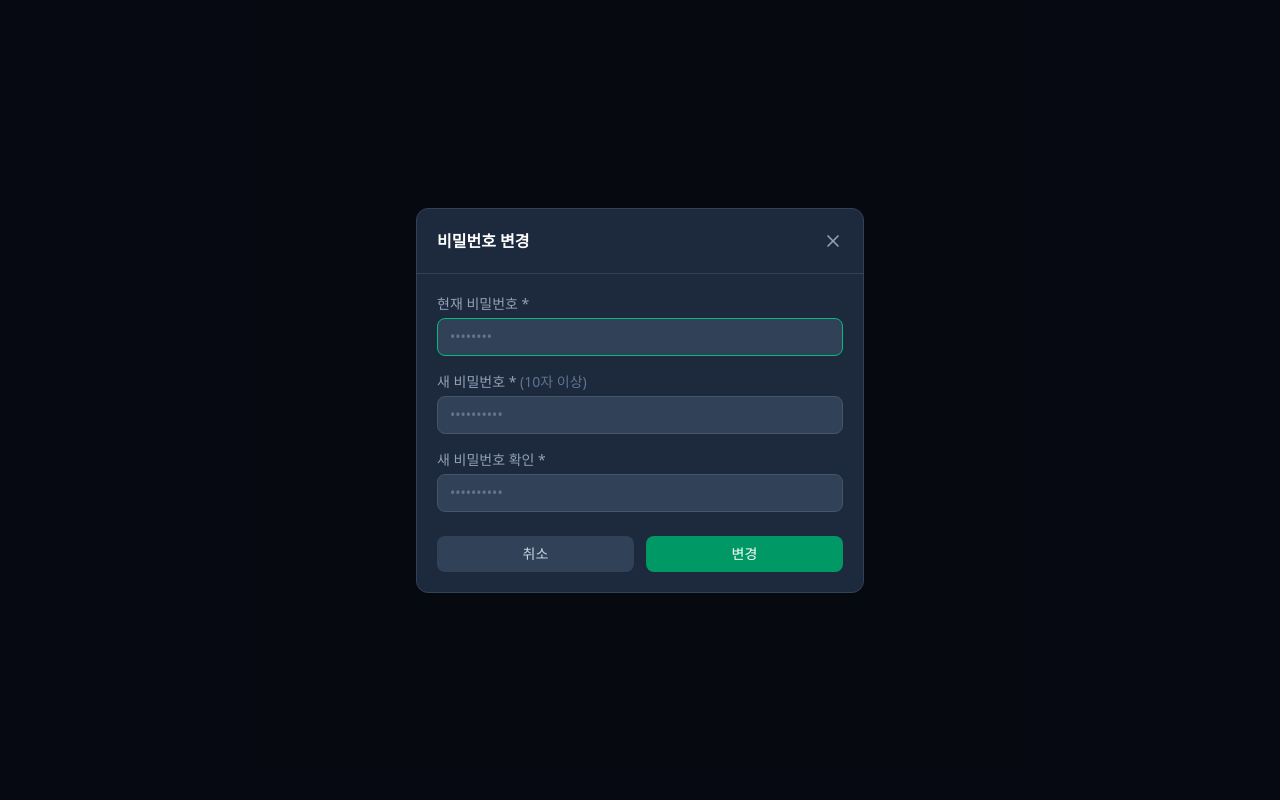
it: ChangePasswordModal › 성공 경로 › 새 토큰을 localStorage에 교체하고 성공 메시지를 보여준다
The width and height of the screenshot is (1280, 800).
Type "admin1234" into the password field labelled "현재 비밀번호 *" at {"x": 640, "y": 336}, box [437,318,843,356]
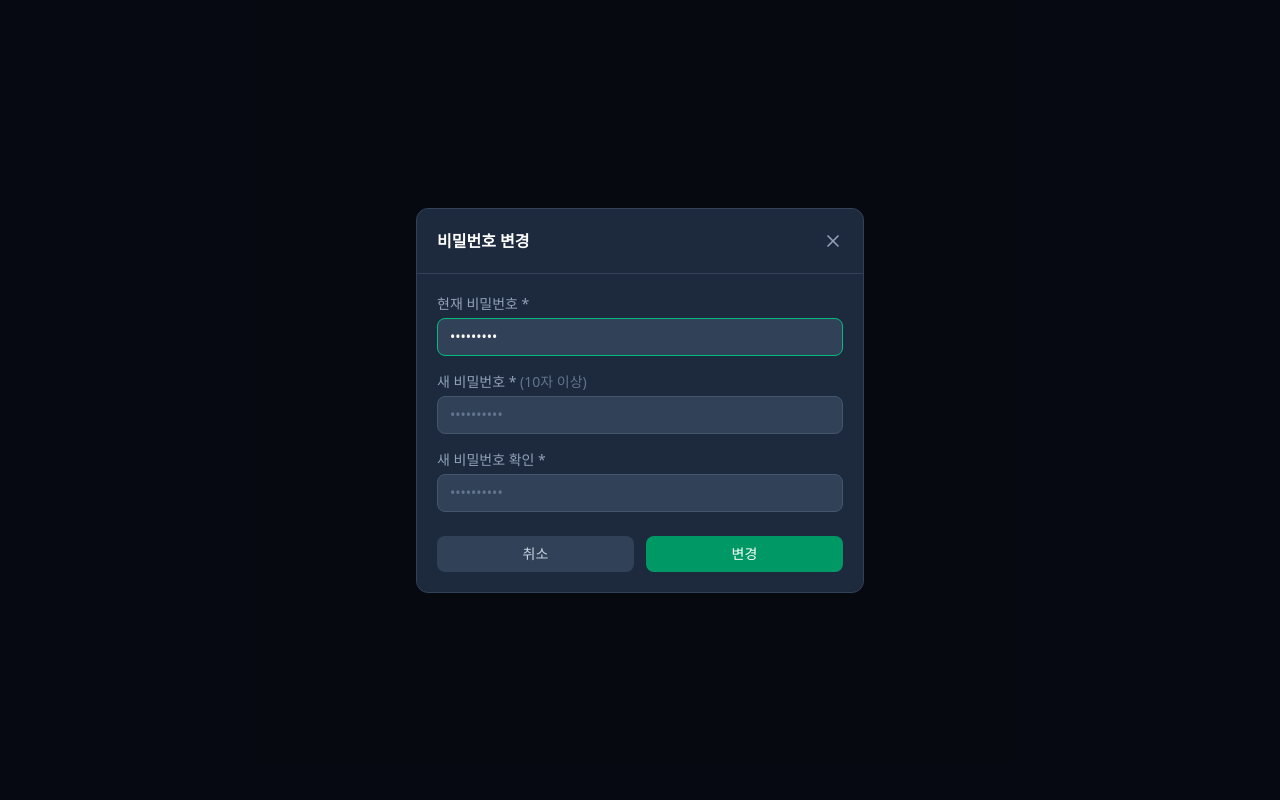
Type "a-long-enough-password" into the password field labelled "새 비밀번호 * (10자 이상)" at {"x": 640, "y": 414}, box [437,396,843,434]
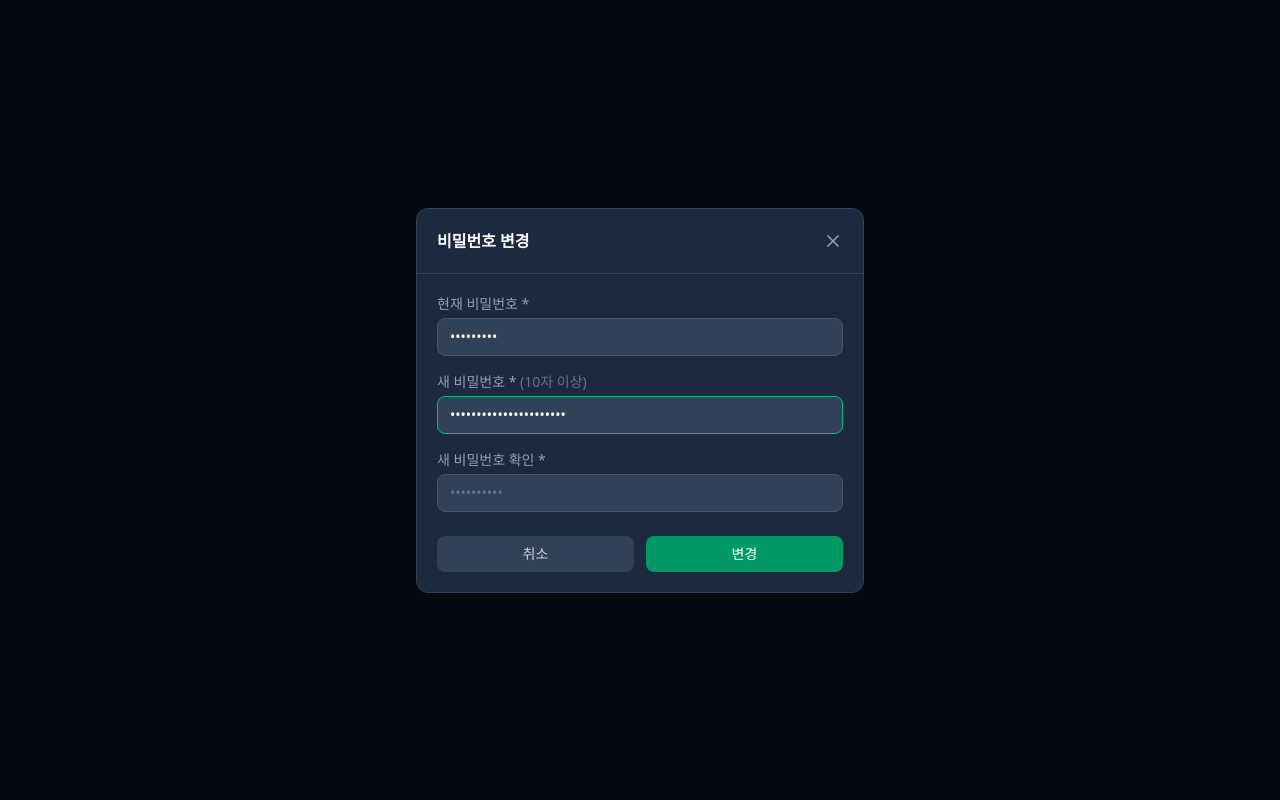
Type "a-long-enough-password" into the password field labelled "새 비밀번호 확인 *" at {"x": 640, "y": 492}, box [437,474,843,512]
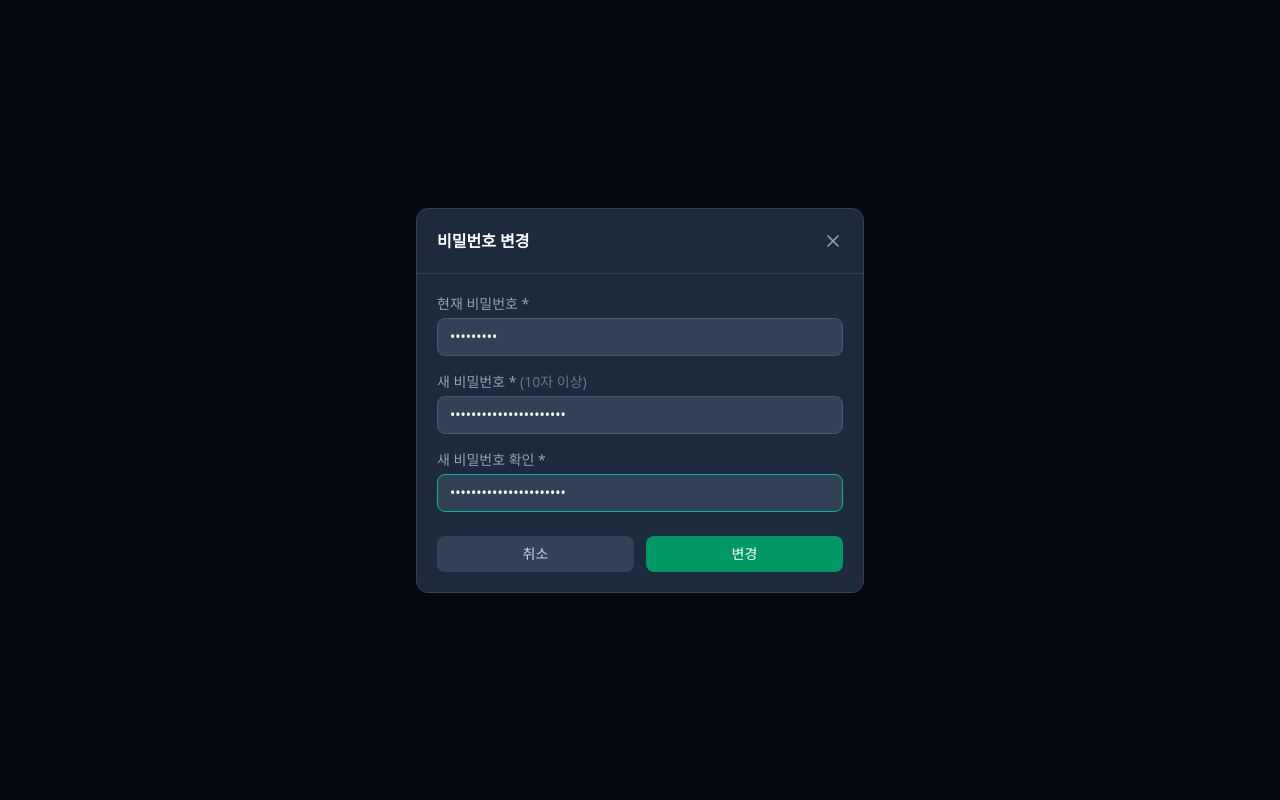
Click the button "변경" at {"x": 744, "y": 554}, box [646,536,843,572]
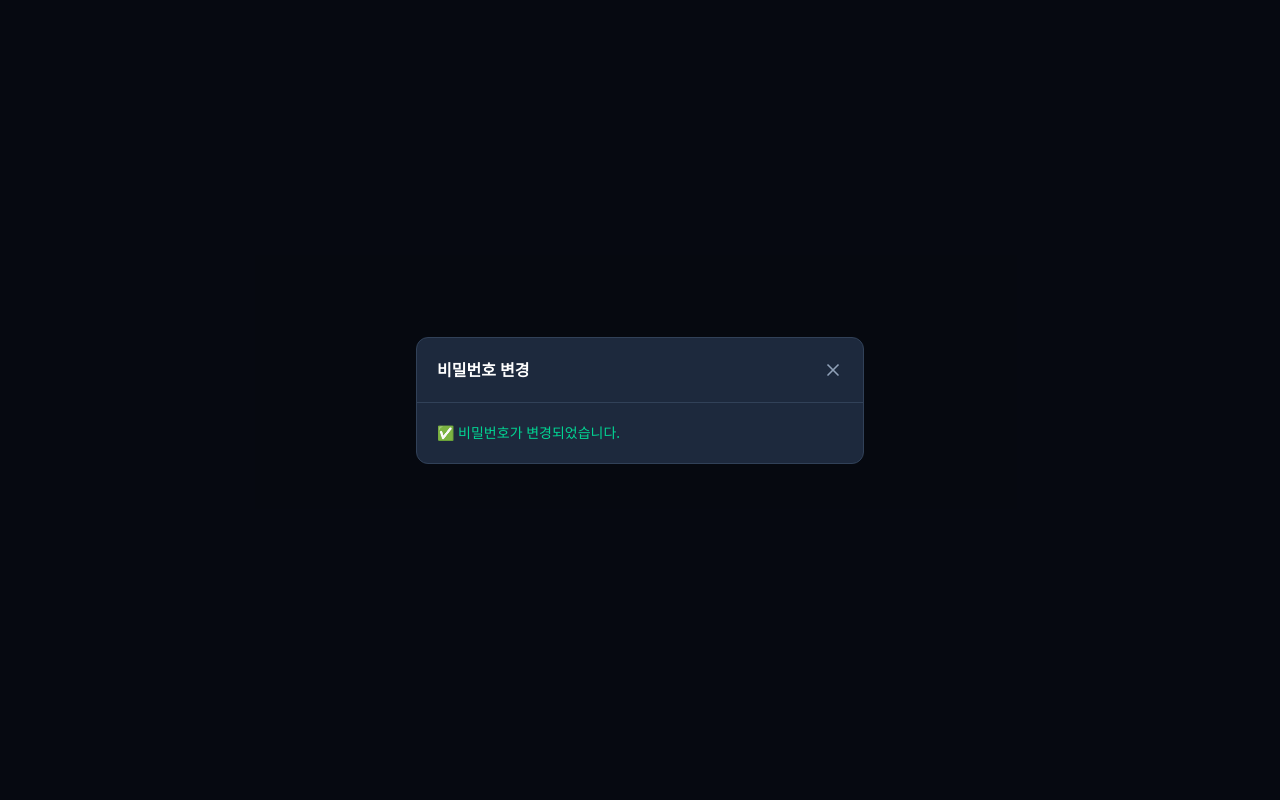
Now the text "✅ 비밀번호가 변경되었습니다." is shown, box [437,422,620,442]
